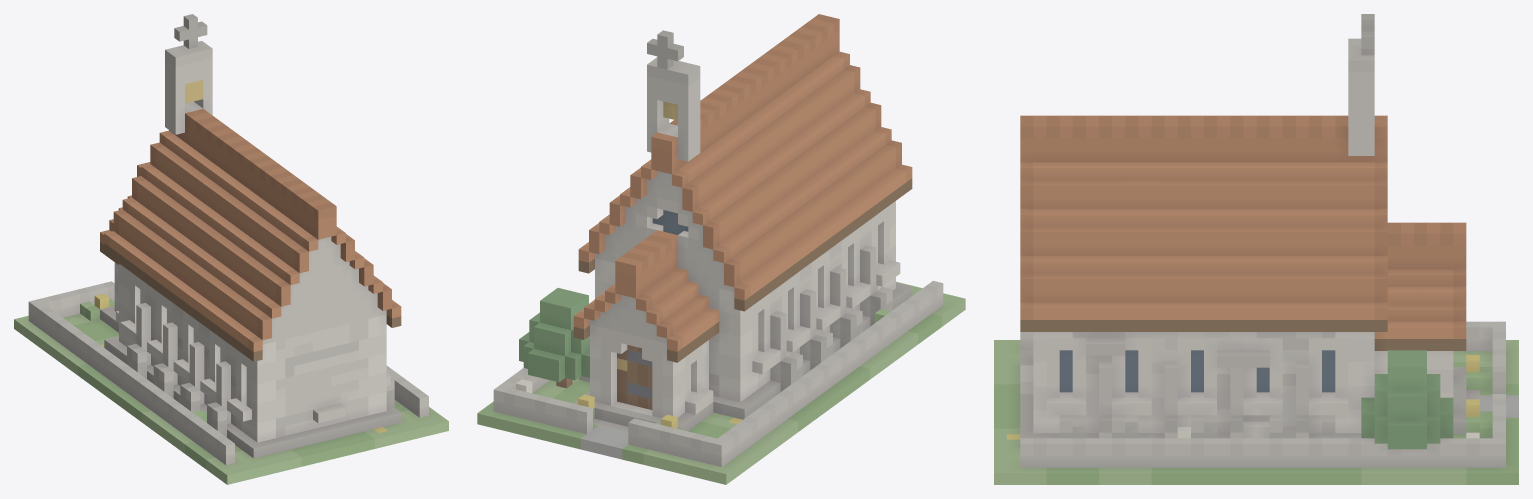
File: chapel.glb
3 renders of one model, left to right at view 1: azimuth 30°, elevation 25°; view 2: azimuth 150°, elevation 25°; view 3: azimuth 270°, elevation 25°, orthographic. The views are drawn at different scales.
Visible parts, largest first — view 1: chapel; view 2: chapel; view 3: chapel.
Boxes of the visible parts, left/top/right/bottom form: chapel: left=14, top=14, right=448, bottom=484; chapel: left=477, top=14, right=965, bottom=484; chapel: left=994, top=14, right=1518, bottom=484.
Size of the model in its own units: 3 by 4.25 by 5.
